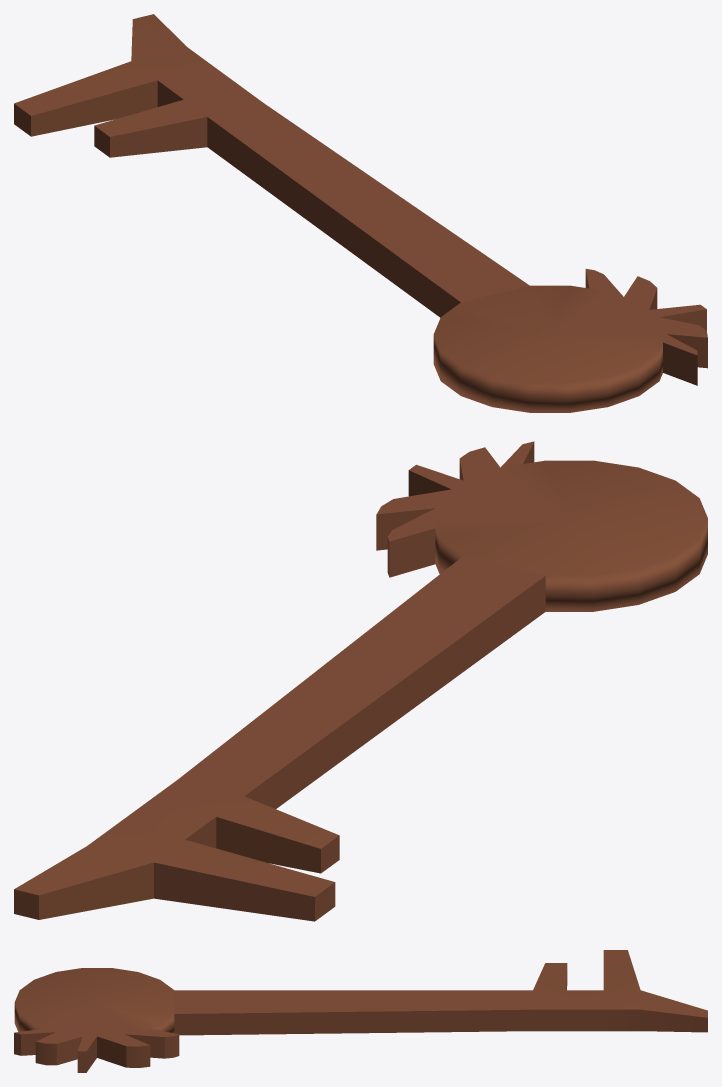
The model's file is keyMesh_HWG.fbx.
3 views of the same model, one above another, from view 1: azimuth 30°, elevation 25°; view 2: azimuth 150°, elevation 25°; view 3: azimuth 270°, elevation 25° (orthographic). The views are drawn at different scales.
Visible parts, largest first — view 1: key; view 2: key; view 3: key.
Part boxes in pixels (x1,y1,x2,y2): key: (14, 14, 707, 412); key: (14, 441, 707, 921); key: (14, 950, 707, 1072).
Bounding box in the file's own units: 2.32 × 0.2223 × 6.5.
